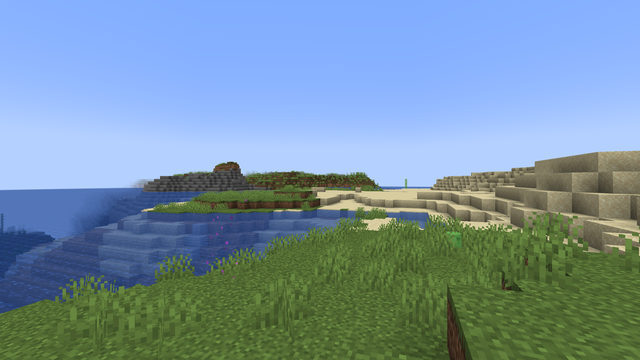slimes: (445, 230, 461, 246)
